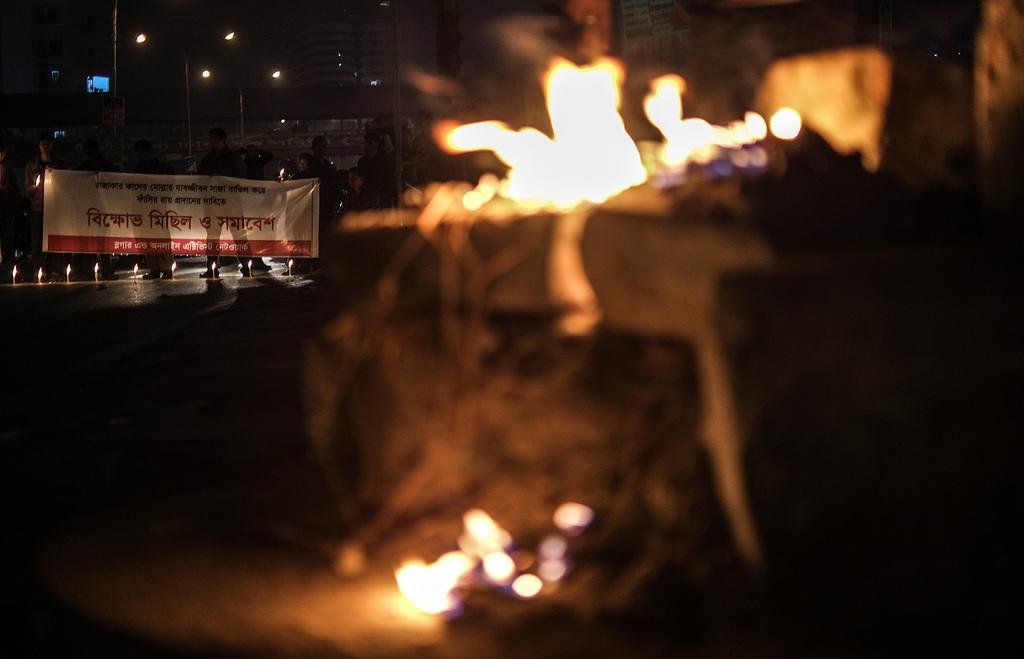fire: (545, 67, 638, 190), (467, 130, 537, 217)
